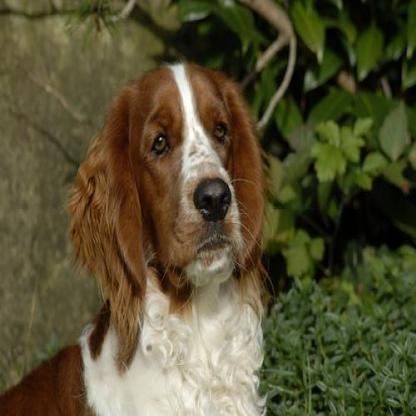Welsh_springer_spaniel: (0, 60, 267, 413)
